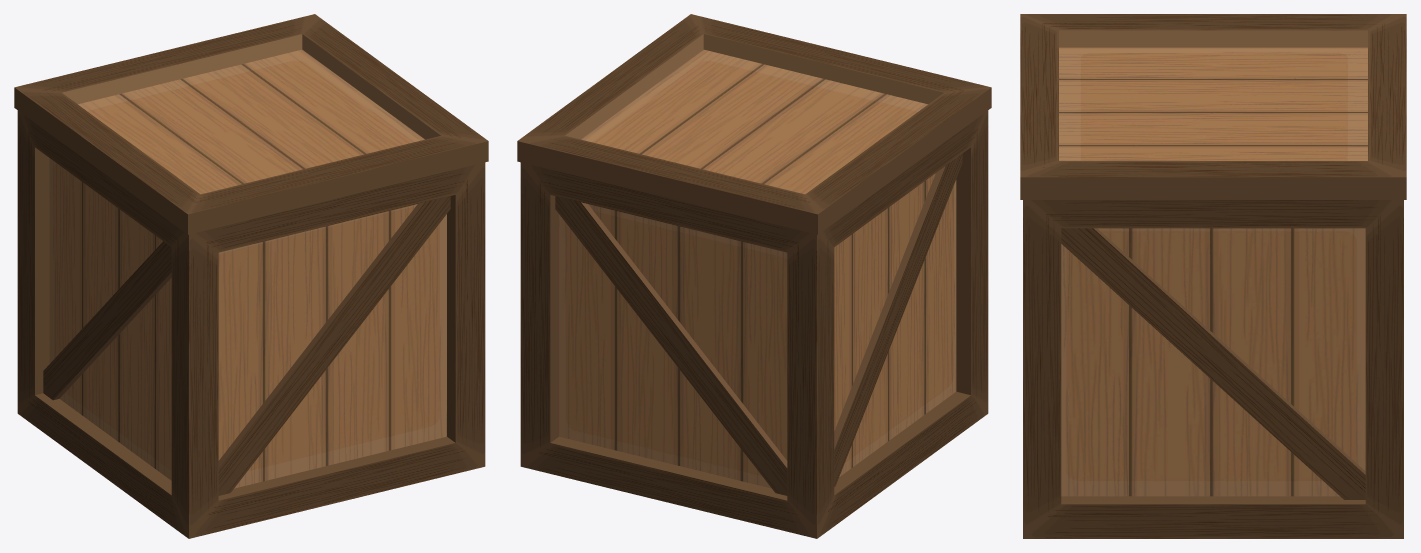
The model's file is Cratehand.fbx.
3 renders of one model, left to right at view 1: azimuth 30°, elevation 25°; view 2: azimuth 150°, elevation 25°; view 3: azimuth 270°, elevation 25°, orthographic. The views are drawn at different scales.
Parts seen in each view (by area): view 1: crate; view 2: crate; view 3: crate.
Part boxes in pixels (<box>): crate: <box>14,14,488,538</box>; crate: <box>517,14,991,538</box>; crate: <box>1020,14,1406,538</box>.
Size of the model in its own units: 0.835 by 0.865 by 0.835.
